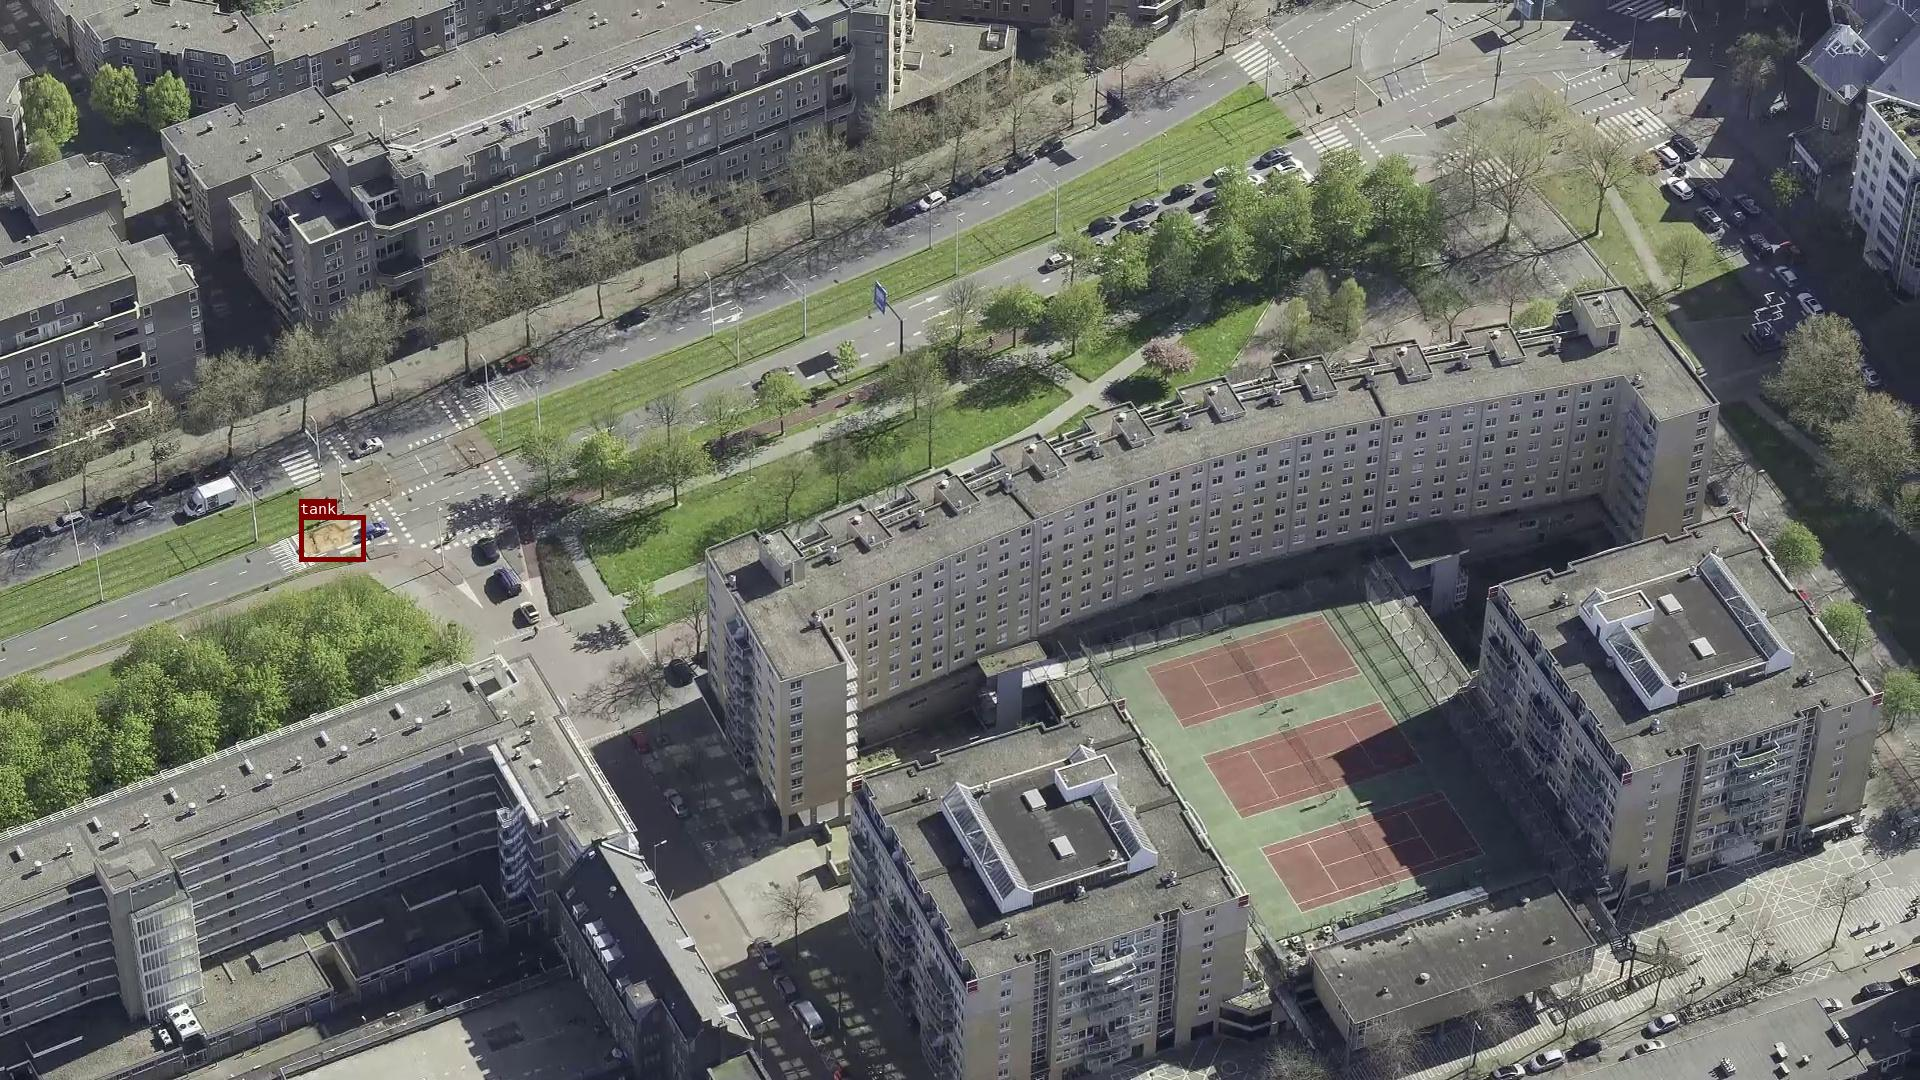tank: (299, 516, 365, 560)
